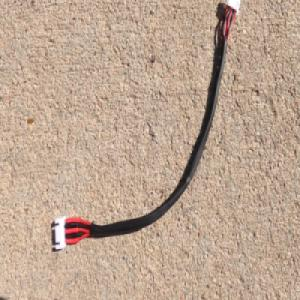Wire: (52, 0, 242, 256)
